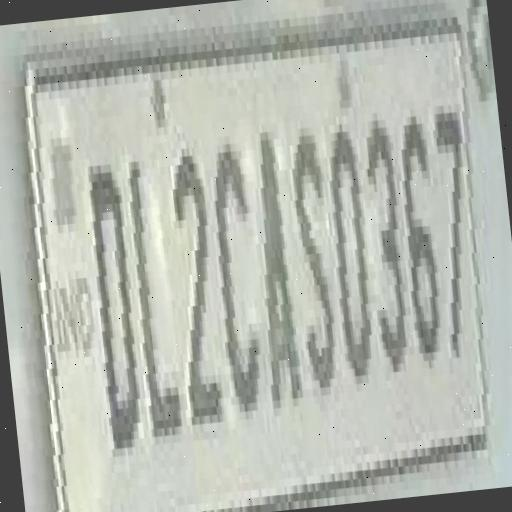number plate: (0, 16, 510, 498)
